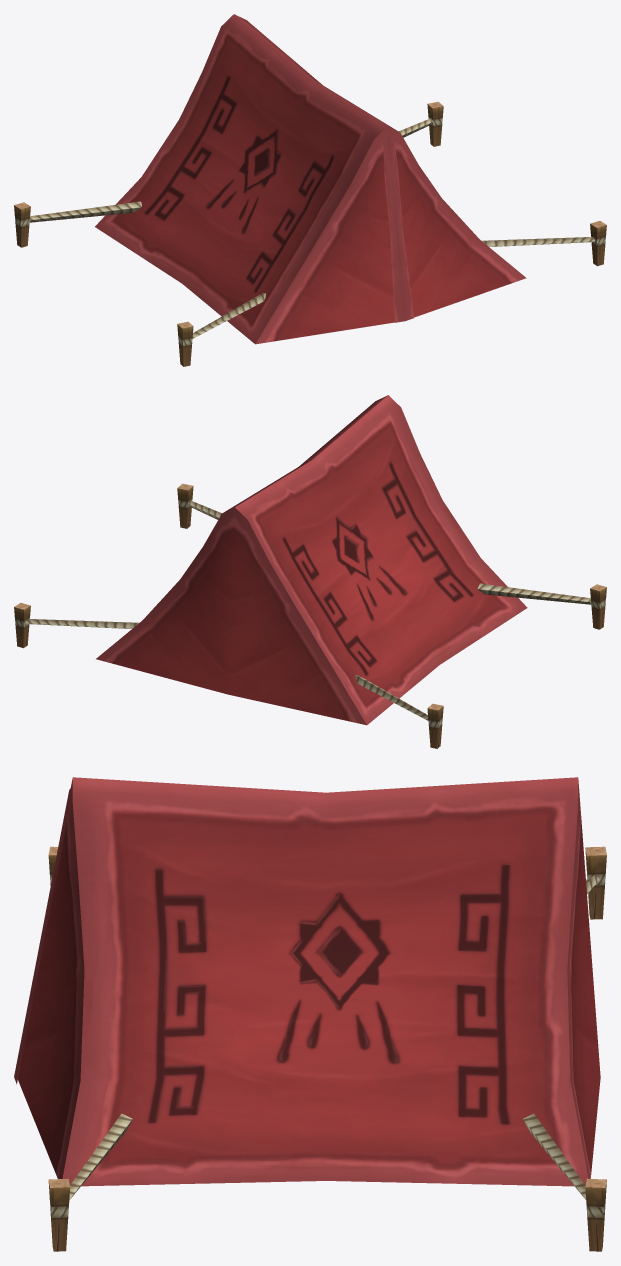
The model's file is tent_red_03.fbx.
The picture shows the model from 3 angles, top to bottom: view 1: azimuth 30°, elevation 25°; view 2: azimuth 150°, elevation 25°; view 3: azimuth 270°, elevation 25°; orthographic projection. The views are drawn at different scales.
Visible parts, largest first — view 1: tent_red_03:Mesh; view 2: tent_red_03:Mesh; view 3: tent_red_03:Mesh.
Part boxes in pixels (x1,y1,x2,y2): tent_red_03:Mesh: (14, 14, 606, 366); tent_red_03:Mesh: (14, 395, 606, 748); tent_red_03:Mesh: (14, 777, 606, 1251).
Bounding box in the file's own units: 5.99 × 2.5 × 4.4.
